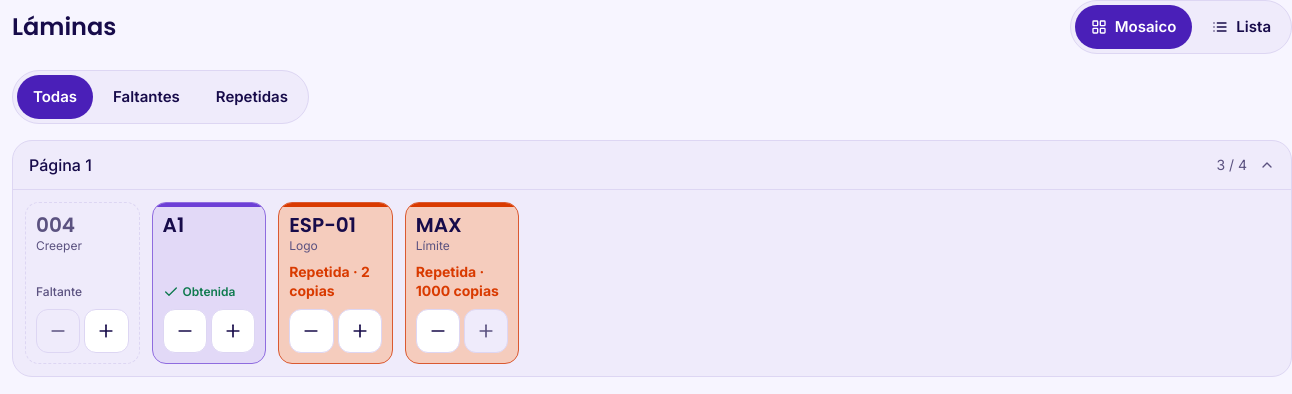
Test: StickerCollection › closes and reopens a section while exposing all quantity-derived states
Expected: the text "Faltante" is shown, x1=36 y1=284 x2=82 y2=300
Expected: the text "Obtenida" is shown, x1=183 y1=284 x2=235 y2=300
Click the heading "Página 1 3 / 4": (60, 165) x1=29 y1=155 x2=1285 y2=182
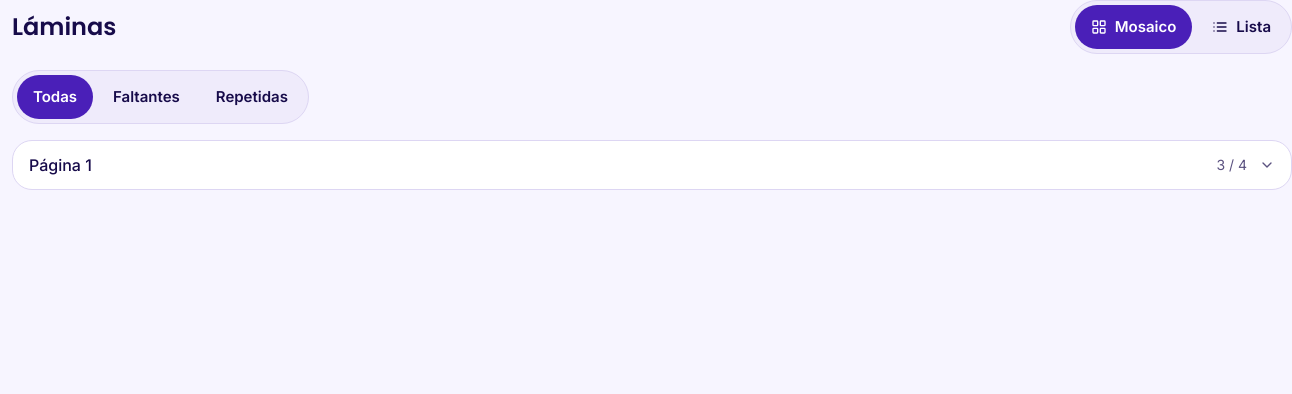
Expected: the heading "Página 1 3 / 4" is collapsed
Click the heading "Página 1 3 / 4": (60, 165) x1=29 y1=155 x2=1286 y2=182
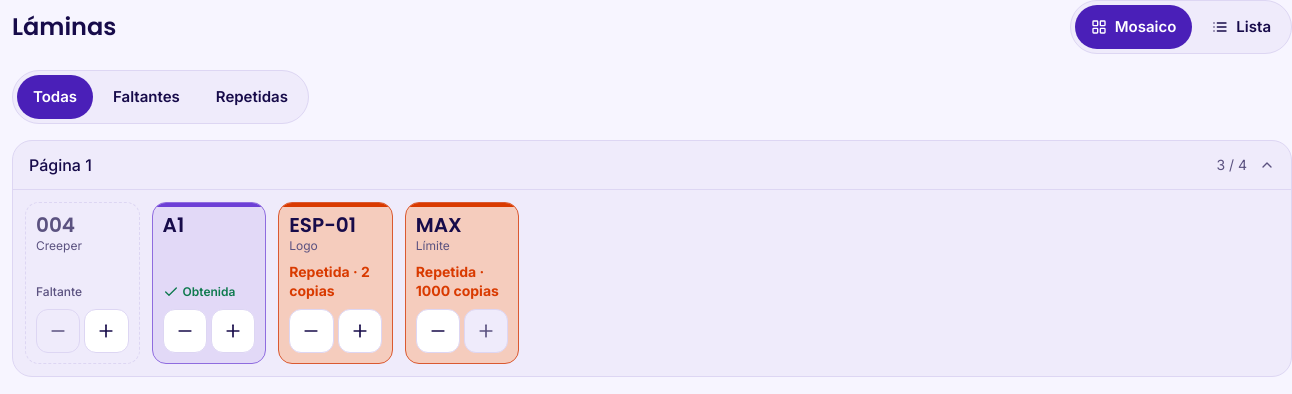
Expected: the heading "Página 1 3 / 4" is expanded, x1=29 y1=155 x2=1285 y2=182
